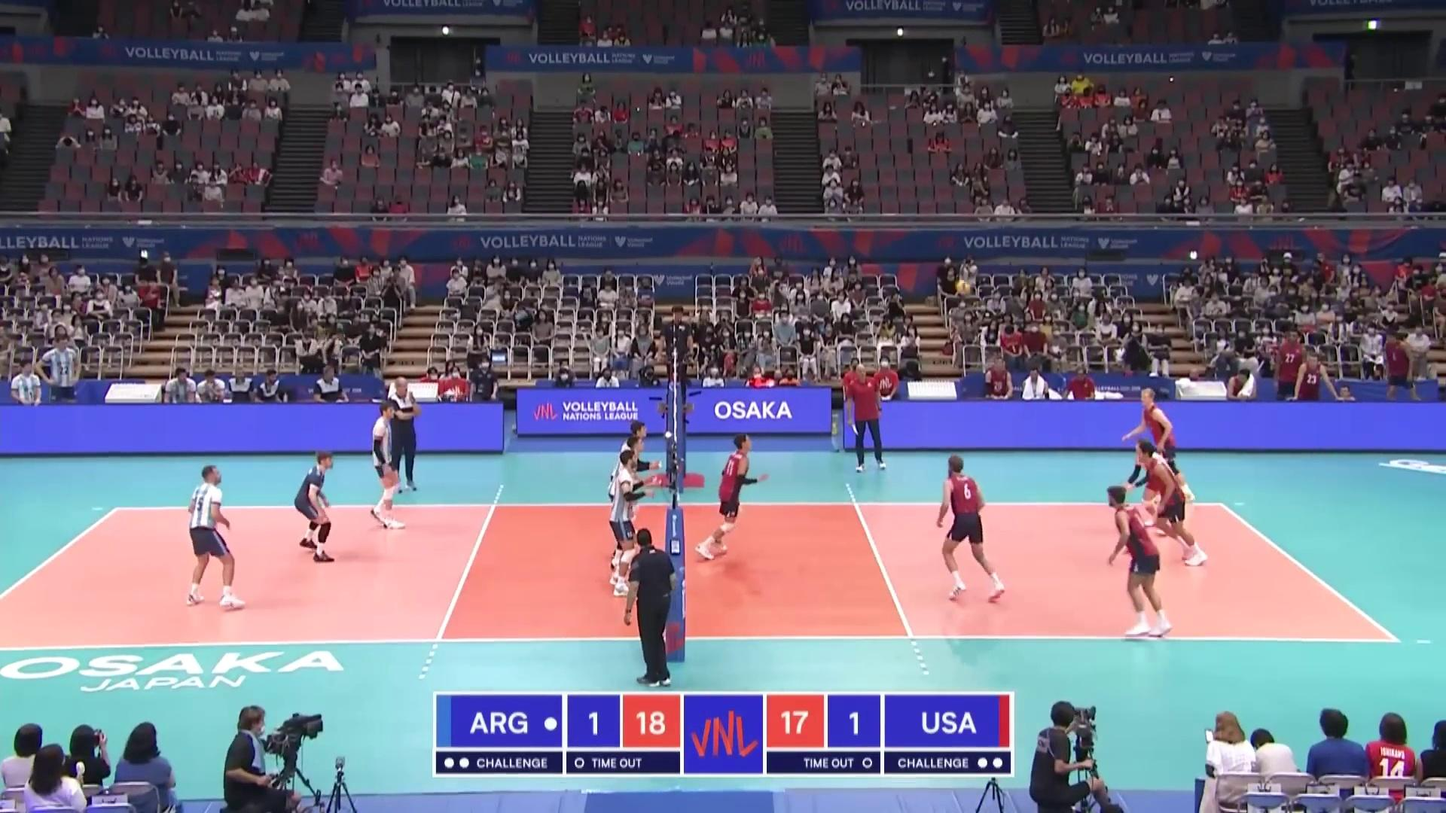player: (1100, 487, 1171, 636), (938, 456, 1009, 602), (185, 465, 247, 614), (696, 433, 764, 561), (1139, 443, 1206, 566), (1124, 387, 1195, 502), (365, 402, 410, 531), (609, 452, 645, 597), (609, 437, 647, 568), (1127, 441, 1179, 535), (293, 450, 335, 563), (610, 423, 649, 539)
refree: (616, 531, 681, 687), (657, 305, 694, 414)
